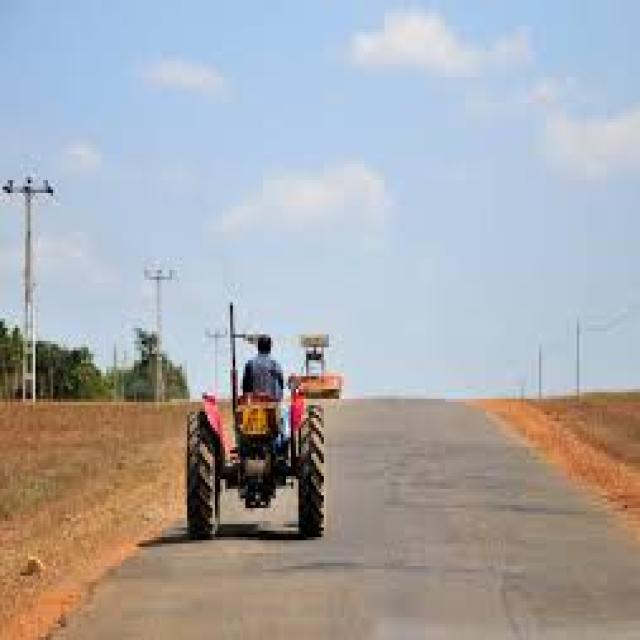person: (243, 334, 281, 402)
tractor: (187, 376, 339, 540)
